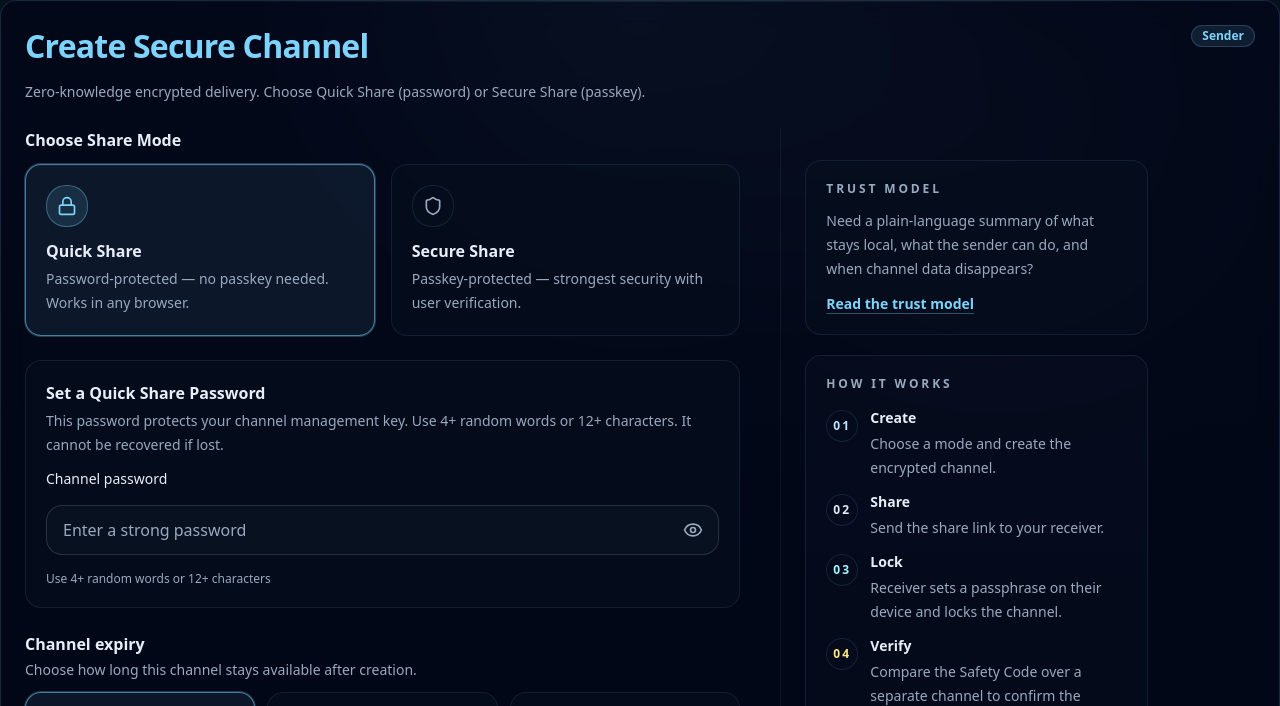
Test: CreatePage integration › shows a create another confirmation when no success links were copied
The image size is (1280, 706).
Click the button with test id "mode-card-secure". click: (433, 206)
box: [391, 164, 740, 336]
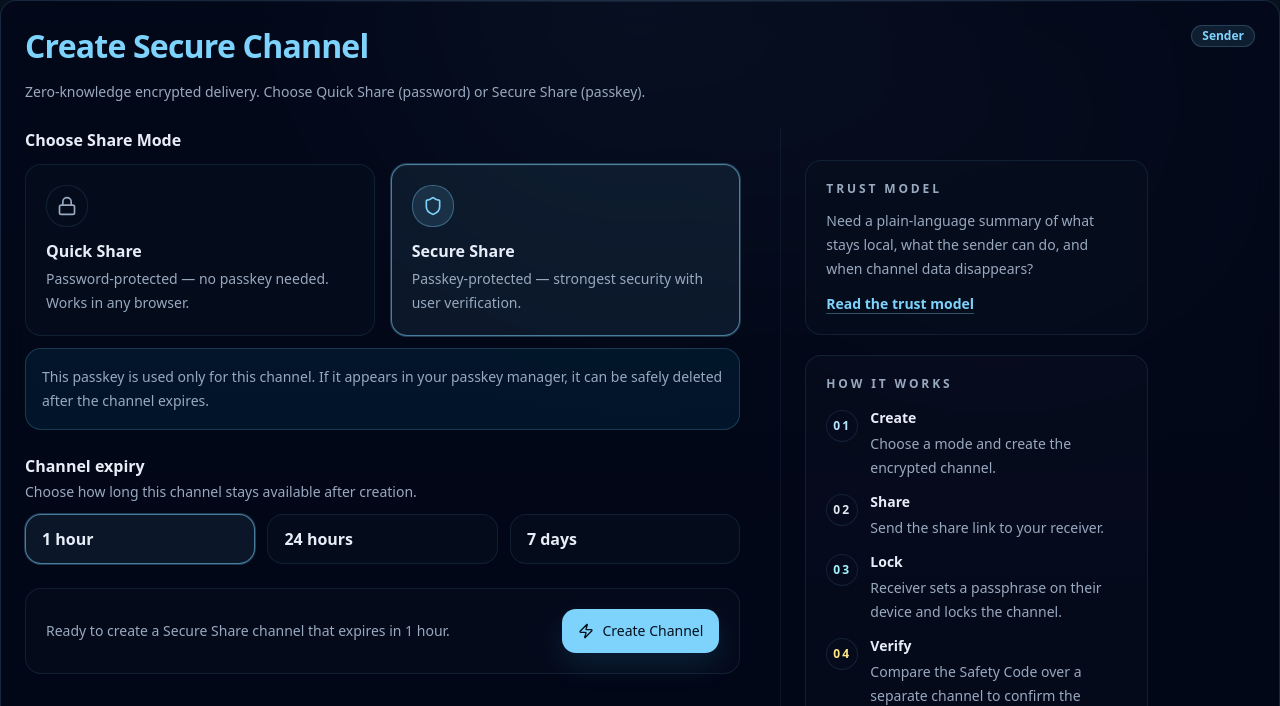
Click the button with test id "create-submit-button". click: (641, 631)
box: [562, 609, 719, 653]
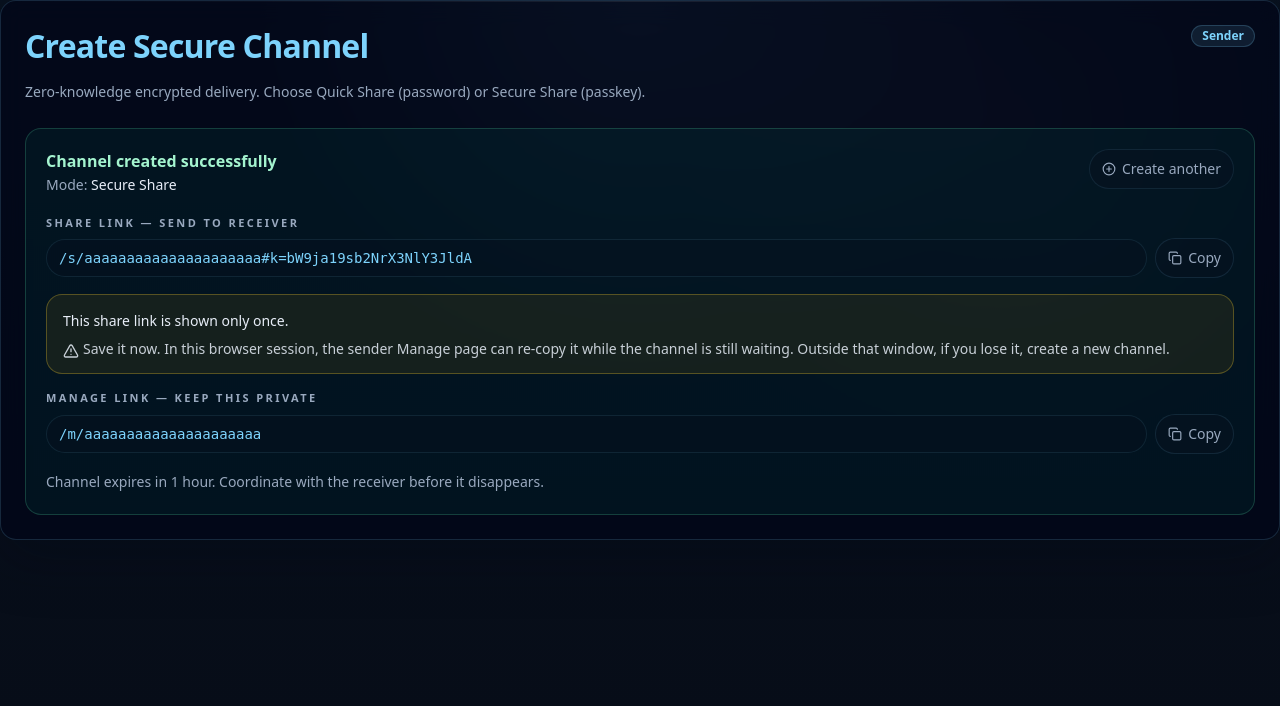
Check: the element with test id "create-success-summary" is shown, box [25, 128, 1255, 515]
Click the button with test id "create-another-button". click: (1161, 169)
box: [1089, 149, 1234, 189]
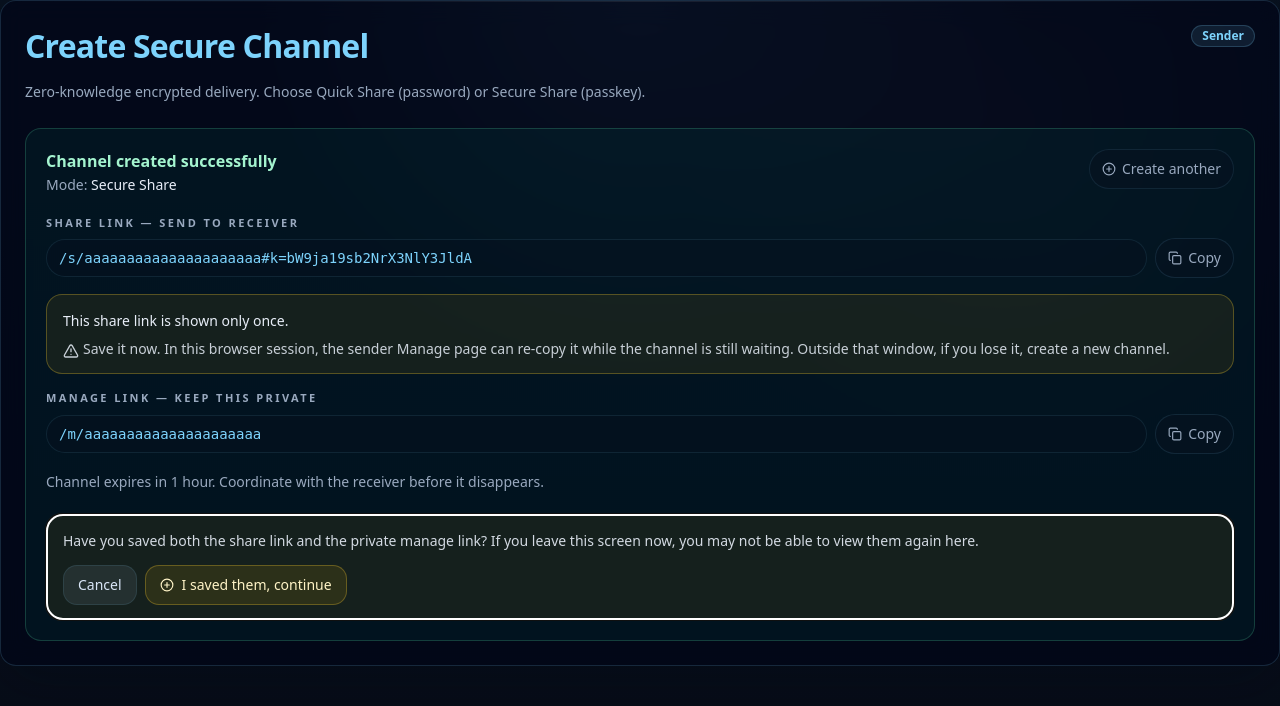
Check: the element with test id "create-success-summary" is shown
Check: the message with test id "create-another-confirm" shows "Have you saved both the share link and the private manage link?", box [63, 531, 979, 550]
